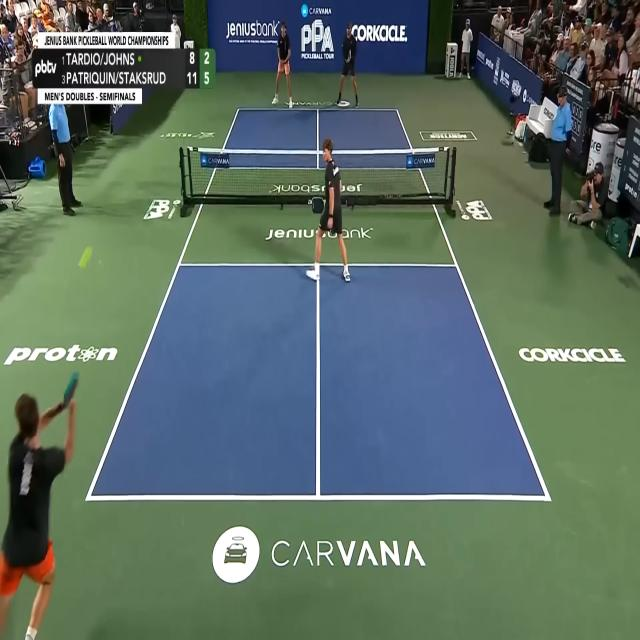ball: (78, 246, 92, 269)
